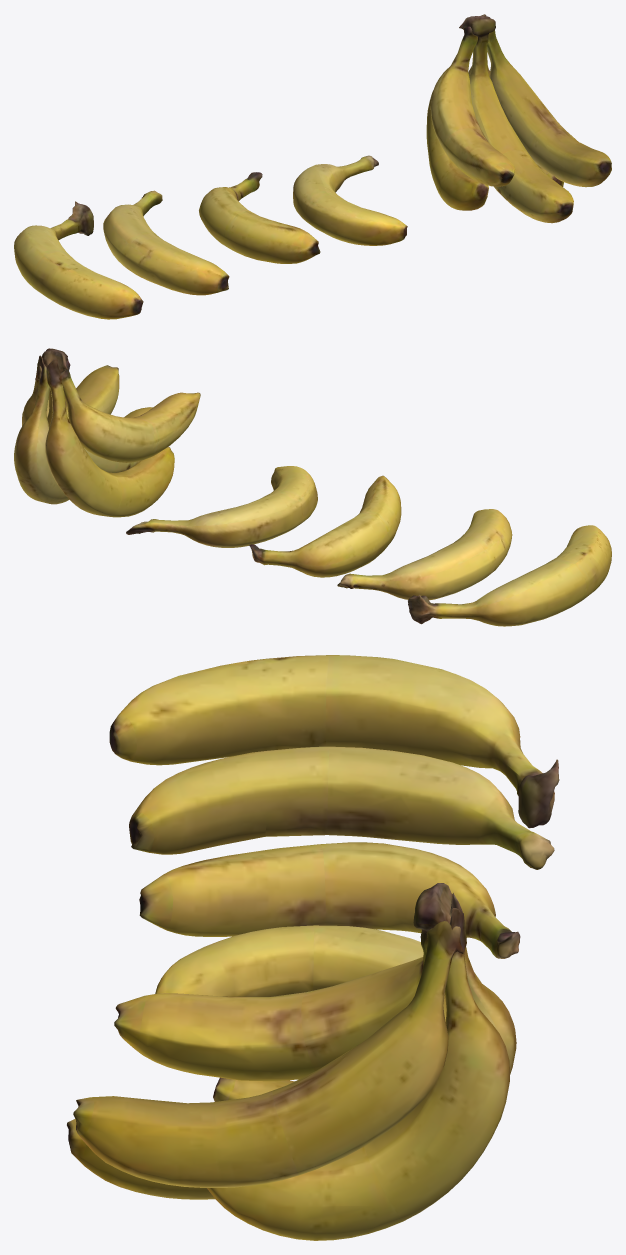
The model's file is bananas.glb.
3 views of the same model, one above another, from view 1: azimuth 30°, elevation 25°; view 2: azimuth 150°, elevation 25°; view 3: azimuth 270°, elevation 25° (orthographic). The views are drawn at different scales.
Parts seen in each view (by area): view 1: bananas_bunch; view 2: bananas_bunch; view 3: bananas_bunch.
Part boxes in pixels (bbox=[...]): bananas_bunch: bbox=[14, 14, 611, 319]; bananas_bunch: bbox=[14, 348, 611, 626]; bananas_bunch: bbox=[67, 655, 559, 1240].
Bounding box in the file's own units: 0.6 × 0.1786 × 0.2441.
Materials: 1 (1 with a texture image).
